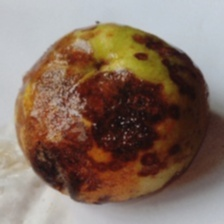guava: (18, 34, 202, 195)
